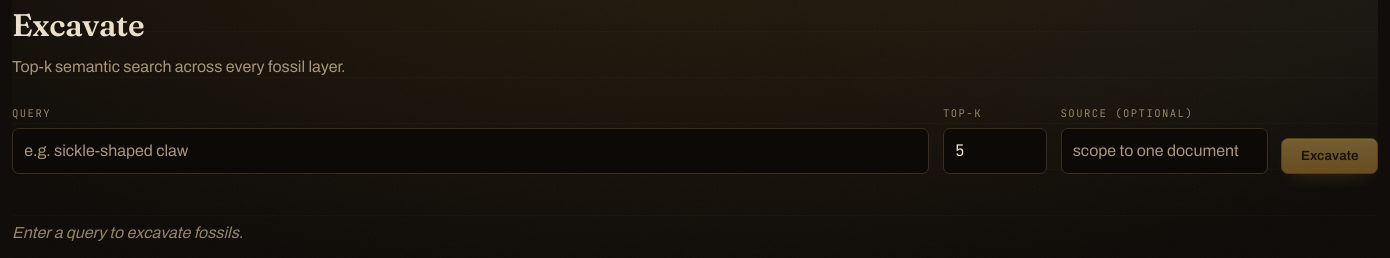
Test case: ExcavatePanel › shows an empty state when nothing matches
Type "nothing" into the field labelled "Query" at {"x": 471, "y": 151}, box x1=12 y1=128 x2=929 y2=174
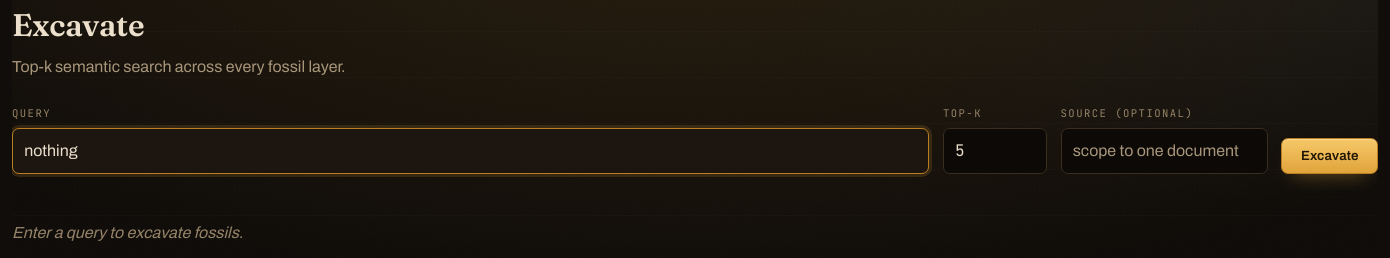
Click the button "Excavate" at {"x": 1330, "y": 156}, box x1=1282 y1=138 x2=1378 y2=174
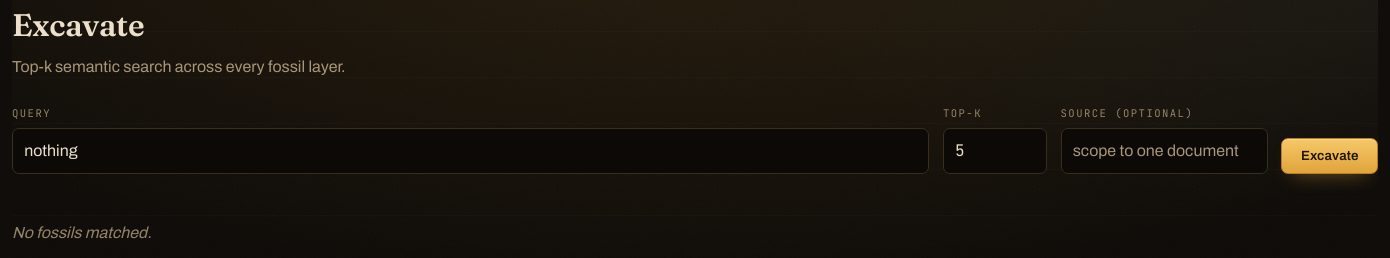
Check: the text "No fossils matched." is shown, box x1=12 y1=224 x2=152 y2=241
